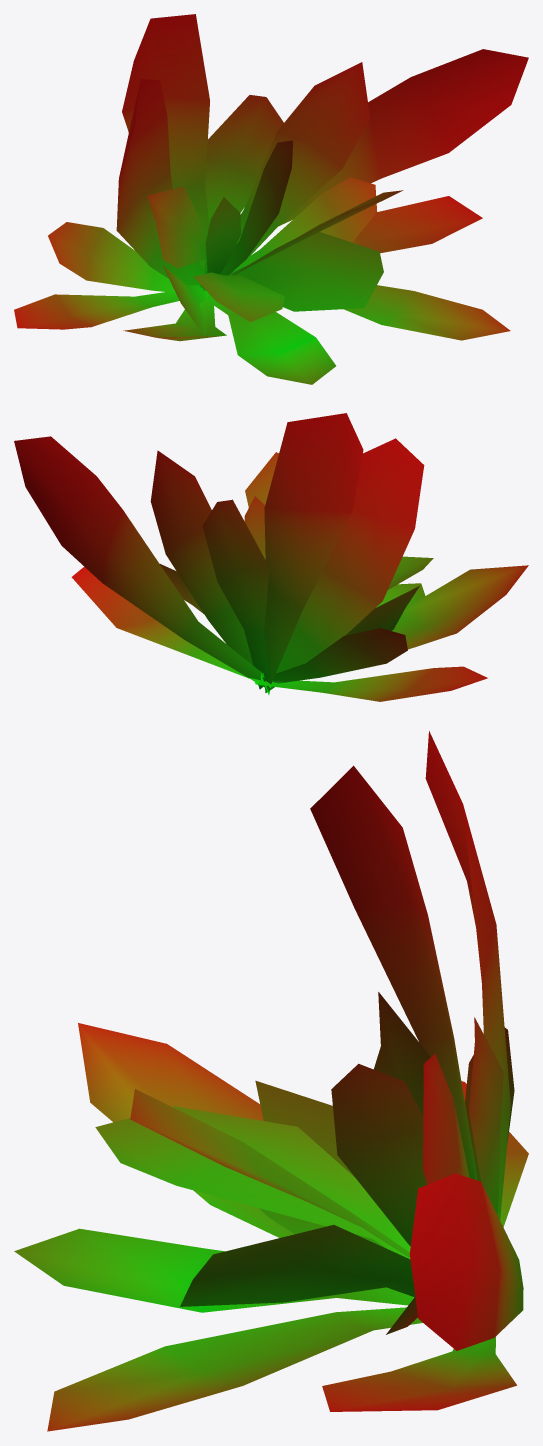
Rendered from Var13_LOD1.fbx.
3 renders of one model, top to bottom at view 1: azimuth 30°, elevation 25°; view 2: azimuth 150°, elevation 25°; view 3: azimuth 270°, elevation 25°, orthographic. The views are drawn at different scales.
Visible parts, largest first — view 1: _1i7t_Var13_LOD1; view 2: _1i7t_Var13_LOD1; view 3: _1i7t_Var13_LOD1.
Boxes of the visible parts, x1=… form: _1i7t_Var13_LOD1: x1=14, y1=14, x2=528, y2=384; _1i7t_Var13_LOD1: x1=14, y1=413, x2=528, y2=701; _1i7t_Var13_LOD1: x1=14, y1=731, x2=528, y2=1431.
Bounding box in the file's own units: 15.1 × 8.8 × 7.65.
